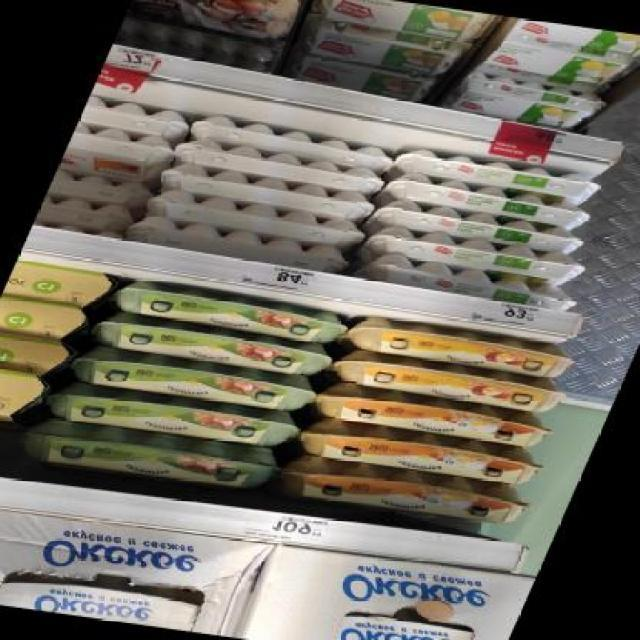egg: (5, 414, 288, 498), (269, 452, 542, 532), (35, 378, 308, 452), (288, 415, 552, 488), (63, 342, 324, 414), (306, 379, 566, 450), (322, 347, 576, 415), (83, 309, 339, 376), (105, 279, 355, 346), (337, 314, 583, 381), (361, 222, 591, 284), (351, 252, 587, 312), (380, 171, 598, 231), (0, 570, 208, 632), (368, 197, 590, 254), (394, 145, 608, 201), (437, 70, 612, 133), (292, 18, 470, 77), (300, 0, 497, 45), (482, 34, 640, 90), (276, 54, 438, 104), (124, 0, 302, 42), (508, 18, 640, 60), (328, 612, 478, 640)
